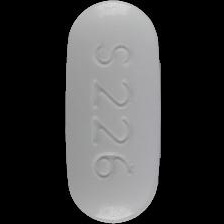52125-850: (0, 0, 224, 224)
